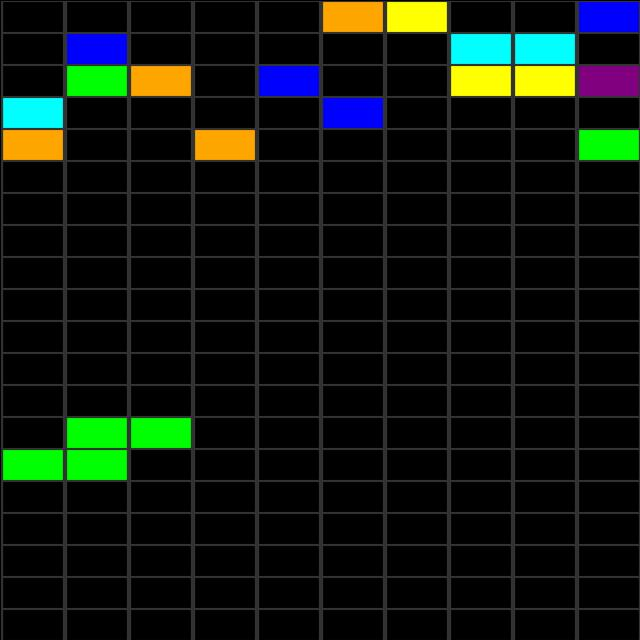Tetrimino_T: (2, 420, 197, 480)
